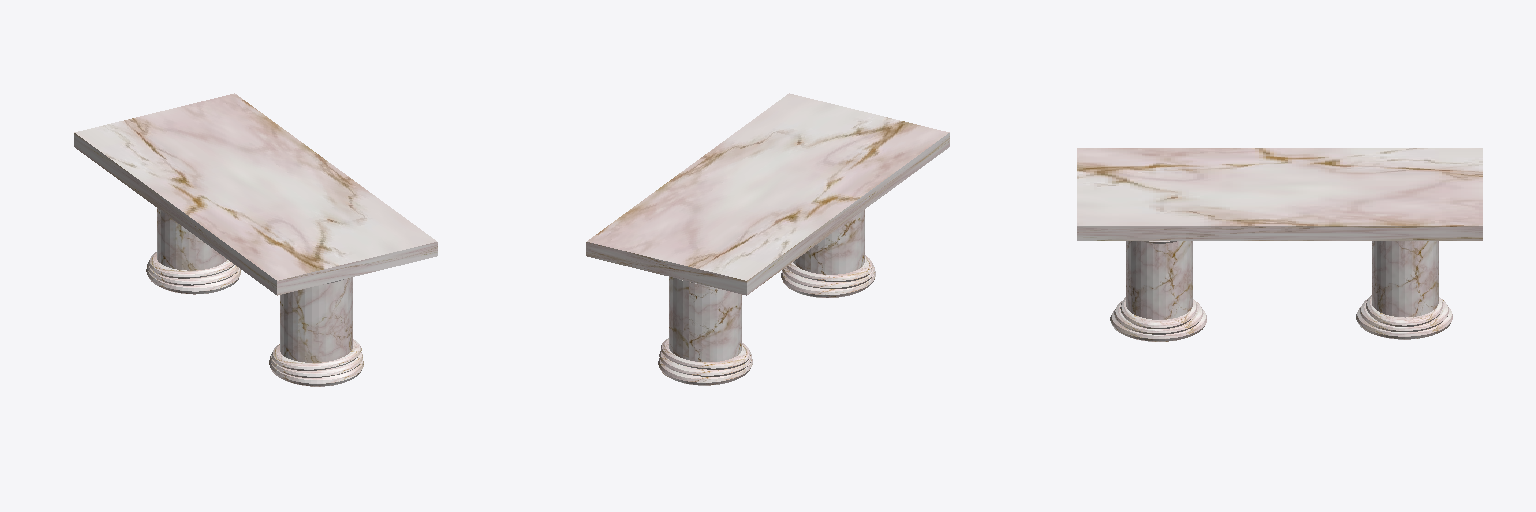
3 views of the same model, side by side, from view 1: azimuth 30°, elevation 25°; view 2: azimuth 150°, elevation 25°; view 3: azimuth 270°, elevation 25° (orthographic).
Parts seen in each view (by area): view 1: Cube; view 2: Cube; view 3: Cube.
Part boxes in pixels (bbox=[...]): Cube: bbox=[74, 93, 437, 386]; Cube: bbox=[586, 93, 949, 385]; Cube: bbox=[1077, 148, 1482, 341].
Size of the model in its own units: 3.69 by 3.03 by 8.07.
Materials: 1 (1 with a texture image).